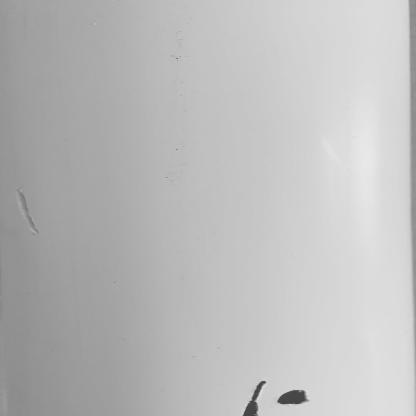kongdong: (241, 382, 266, 416), (276, 386, 309, 407)
sunshang: (14, 189, 41, 236)
